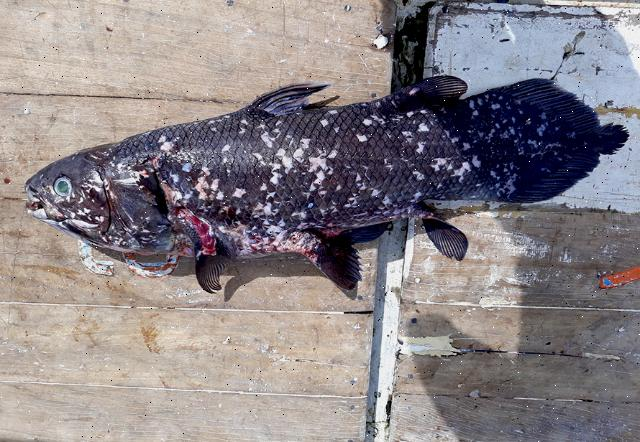Mulut: (8, 168, 52, 246)
Sirip Anal: (412, 202, 482, 272)
Sirip Dada: (181, 234, 245, 312)
Sirip Ekor: (472, 66, 640, 232)
Sirip Perut: (285, 218, 383, 312)
Sirip Punggung: (218, 52, 486, 127)
